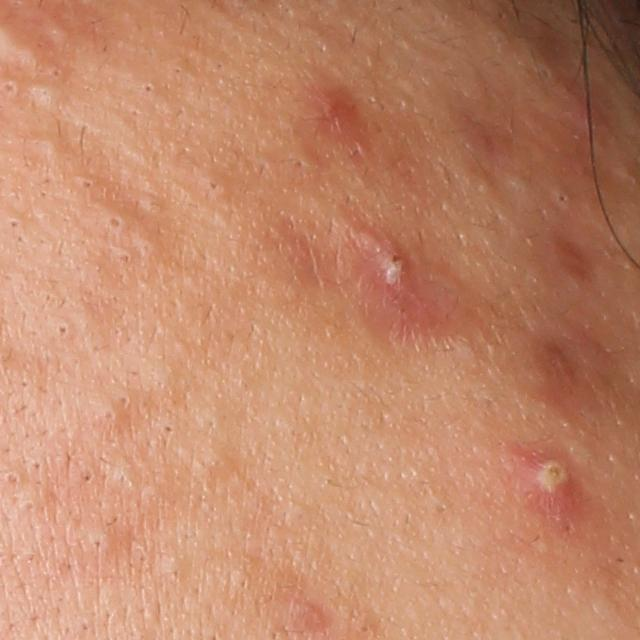comedo: (25, 128, 67, 161), (83, 528, 116, 555), (164, 555, 187, 580), (202, 177, 227, 200), (104, 208, 125, 234), (158, 419, 181, 440), (1, 467, 22, 488), (54, 319, 71, 338), (3, 213, 22, 230), (140, 81, 159, 97), (78, 177, 97, 192), (47, 65, 66, 80)
pustule: (523, 446, 588, 518)
